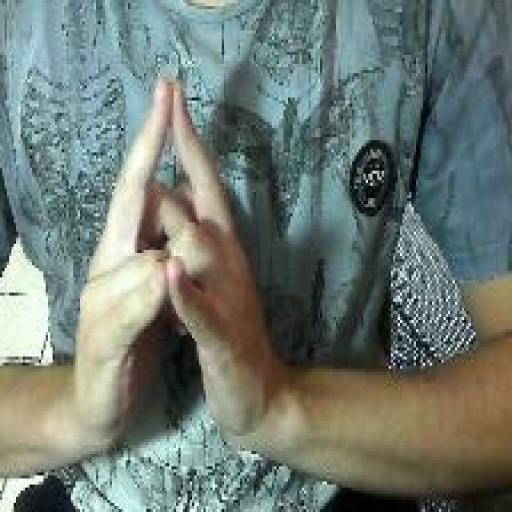Tori -bird-: (72, 76, 273, 448)
